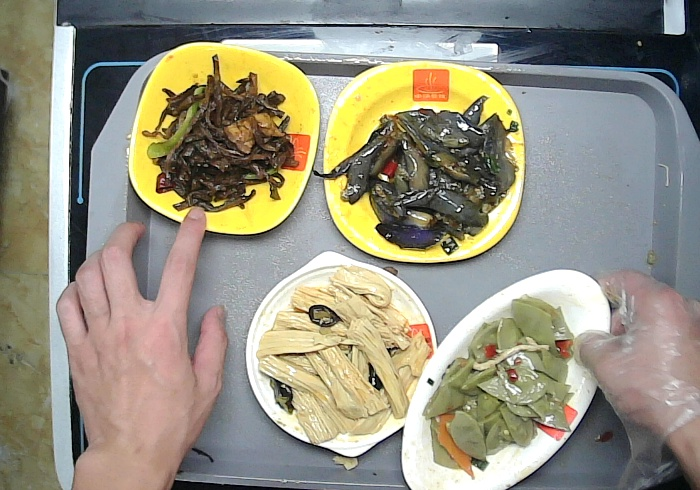SHKJ-Bao_Yu_Pan: (242, 248, 439, 463)
SHKJ-Huang_Se_Cai_Die: (126, 38, 321, 239)
SHKJ-Huang_Se_Si_Fang_Cai_Die: (322, 56, 528, 267)
SHKJ-Yu_Pan: (399, 265, 614, 490)
